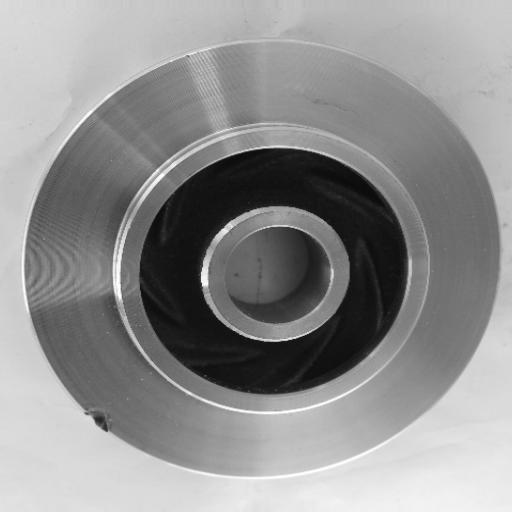crack: (70, 396, 123, 445)
unpolished_casting: (19, 39, 498, 482)
